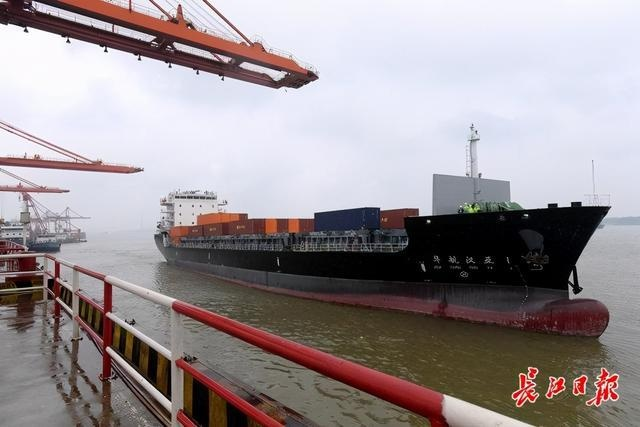Cargoship: (154, 132, 619, 333)
